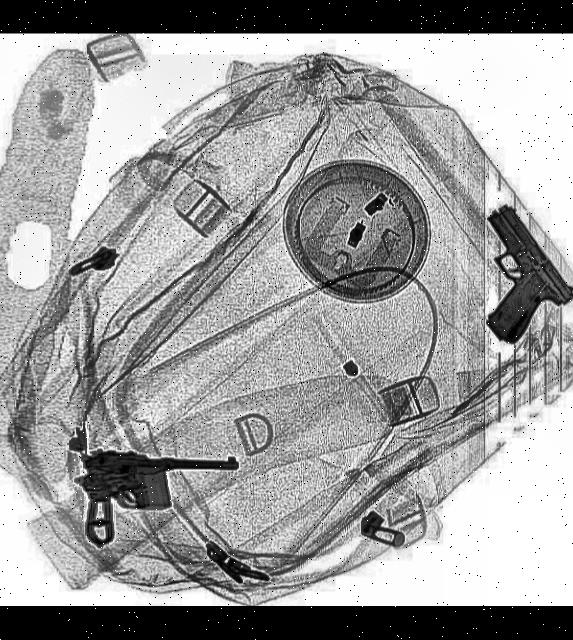Gun: (430, 200, 573, 353), (67, 450, 238, 555)
